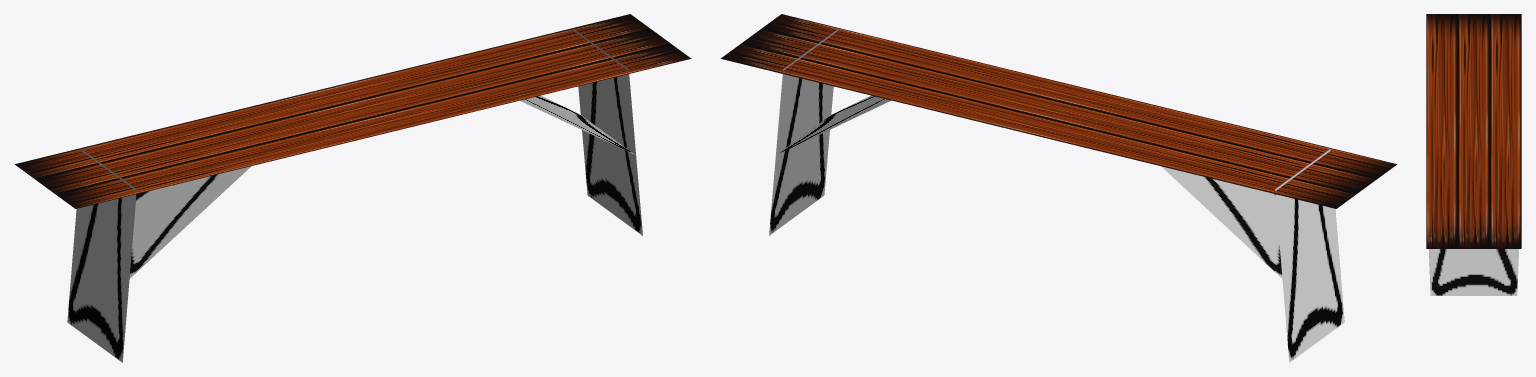
Rendered from Klappbank_1807.glb.
3 renders of one model, left to right at view 1: azimuth 30°, elevation 25°; view 2: azimuth 150°, elevation 25°; view 3: azimuth 270°, elevation 25°, orthographic. The views are drawn at different scales.
Visible parts, largest first — view 1: pPlaneShape22, pPlaneShape23, pPlaneShape26, pPlaneShape25, pPlaneShape27; view 2: pPlaneShape22, pPlaneShape23, pPlaneShape26, pPlaneShape25, pPlaneShape27; view 3: pPlaneShape22, pPlaneShape27.
Part boxes in pixels (left/top/right/bottom): pPlaneShape22: left=15, top=14, right=691, bottom=208; pPlaneShape23: left=67, top=149, right=136, bottom=362; pPlaneShape26: left=573, top=29, right=642, bottom=235; pPlaneShape25: left=129, top=166, right=251, bottom=278; pPlaneShape27: left=520, top=95, right=634, bottom=154; pPlaneShape22: left=720, top=14, right=1396, bottom=208; pPlaneShape23: left=1275, top=149, right=1344, bottom=362; pPlaneShape26: left=769, top=29, right=838, bottom=235; pPlaneShape25: left=1161, top=166, right=1282, bottom=278; pPlaneShape27: left=777, top=95, right=890, bottom=154; pPlaneShape22: left=1426, top=14, right=1521, bottom=248; pPlaneShape27: left=1429, top=249, right=1518, bottom=295.
Size of the model in its own units: 0.242 by 0.0639 by 0.0416.
Materials: 5 (5 with a texture image).
